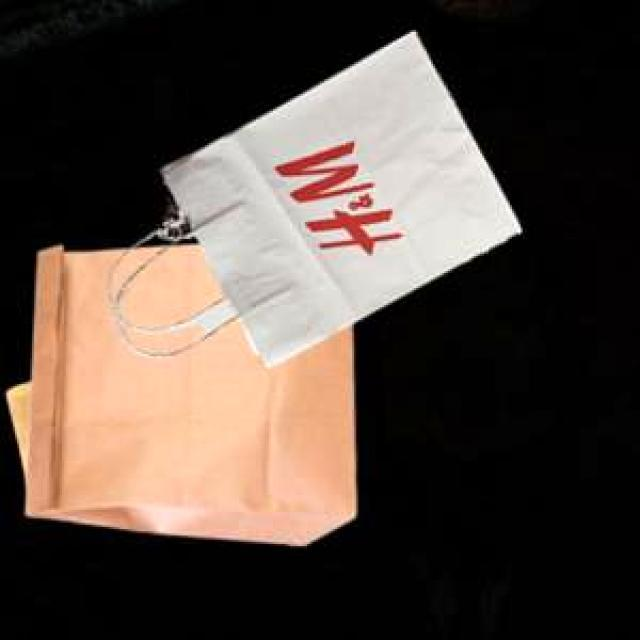Paper_Bag: (110, 29, 518, 364), (22, 242, 353, 543), (3, 378, 29, 479)
